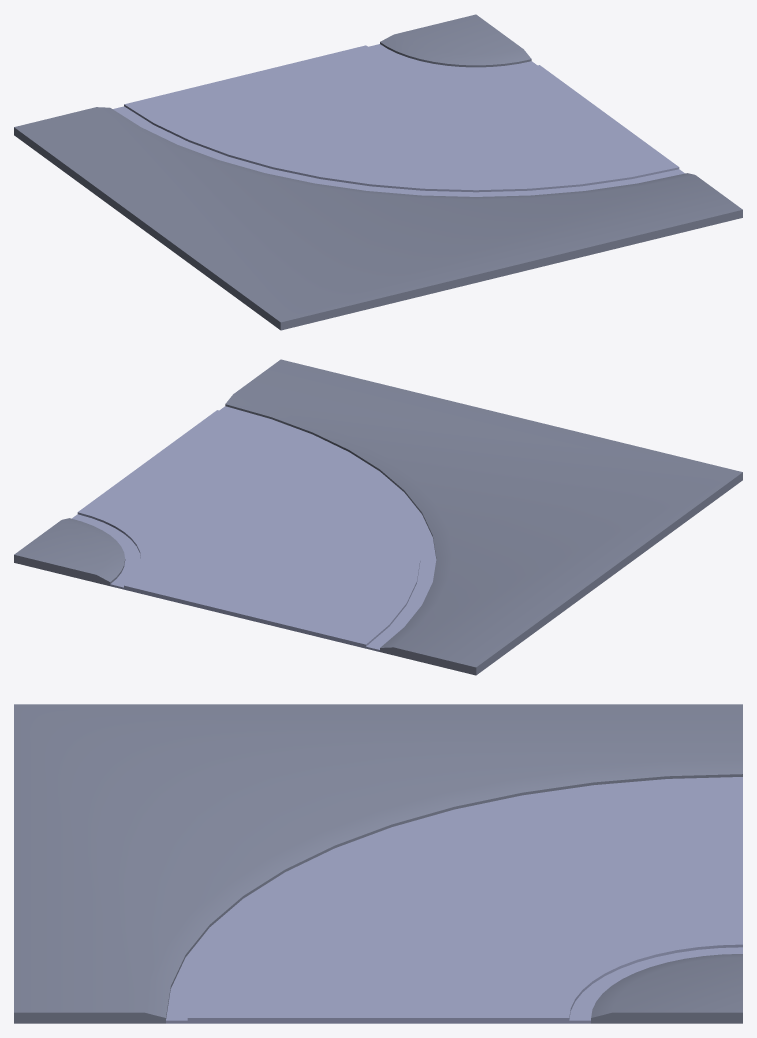
File: kenney-fantasy-town-road-bend.glb
3 views of the same model, one above another, from view 1: azimuth 30°, elevation 25°; view 2: azimuth 150°, elevation 25°; view 3: azimuth 270°, elevation 25° (orthographic). The views are drawn at different scales.
Parts seen in each view (by area): view 1: road-bend; view 2: road-bend; view 3: road-bend.
Part boxes in pixels (bbox=[...]): road-bend: bbox=[14, 14, 742, 330]; road-bend: bbox=[14, 359, 742, 675]; road-bend: bbox=[14, 704, 742, 1023].
Bounding box in the file's own units: 3 × 0.0502 × 3.
Materials: 1 (1 with a texture image).
